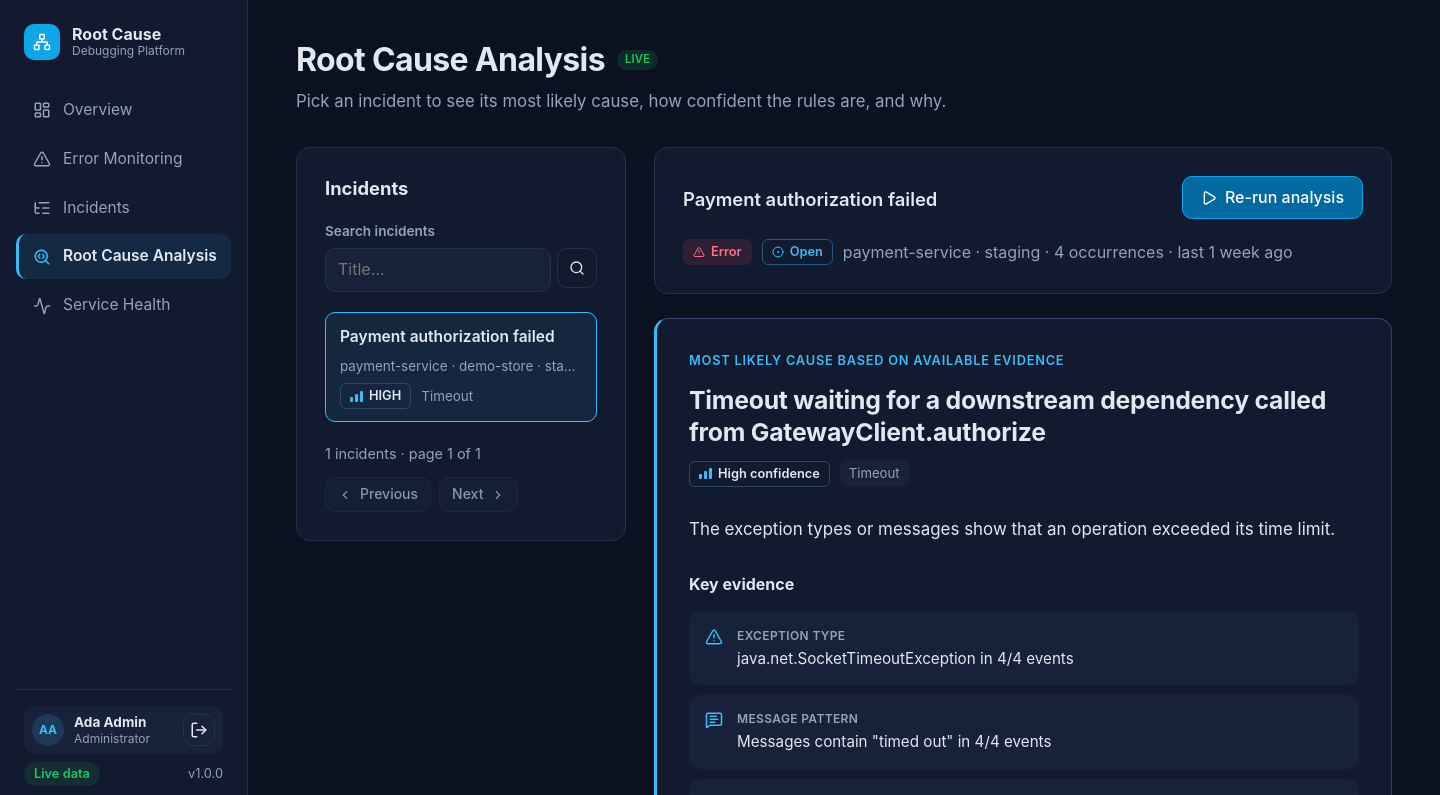
RootCauseAnalysisPage › shows the answer of the server if running an analysis is refused
Click the button "Re-run analysis" at (1272,198), box x1=1182 y1=176 x2=1363 y2=220
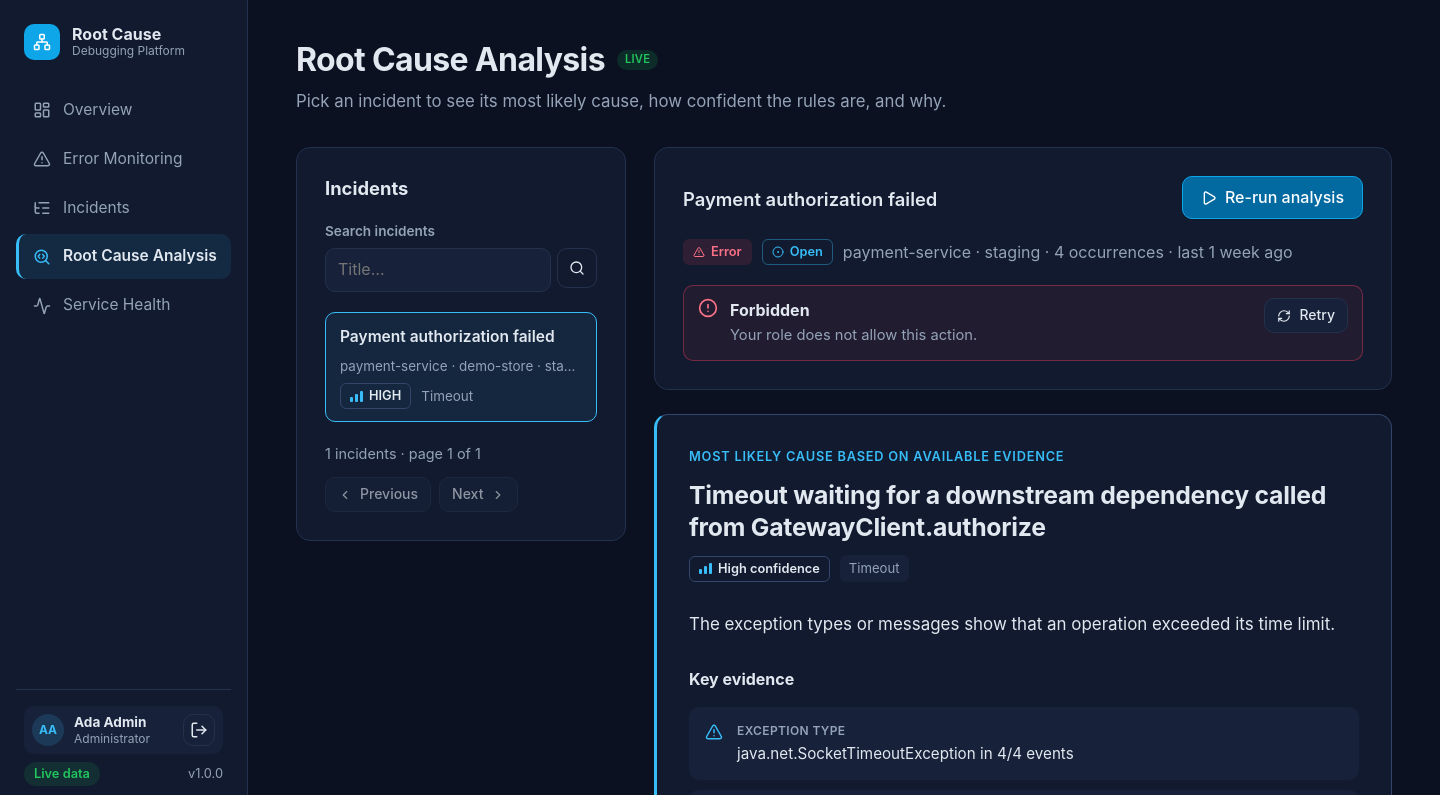
Expected: the text "Your role does not allow this action." is shown, x1=730 y1=326 x2=977 y2=344
